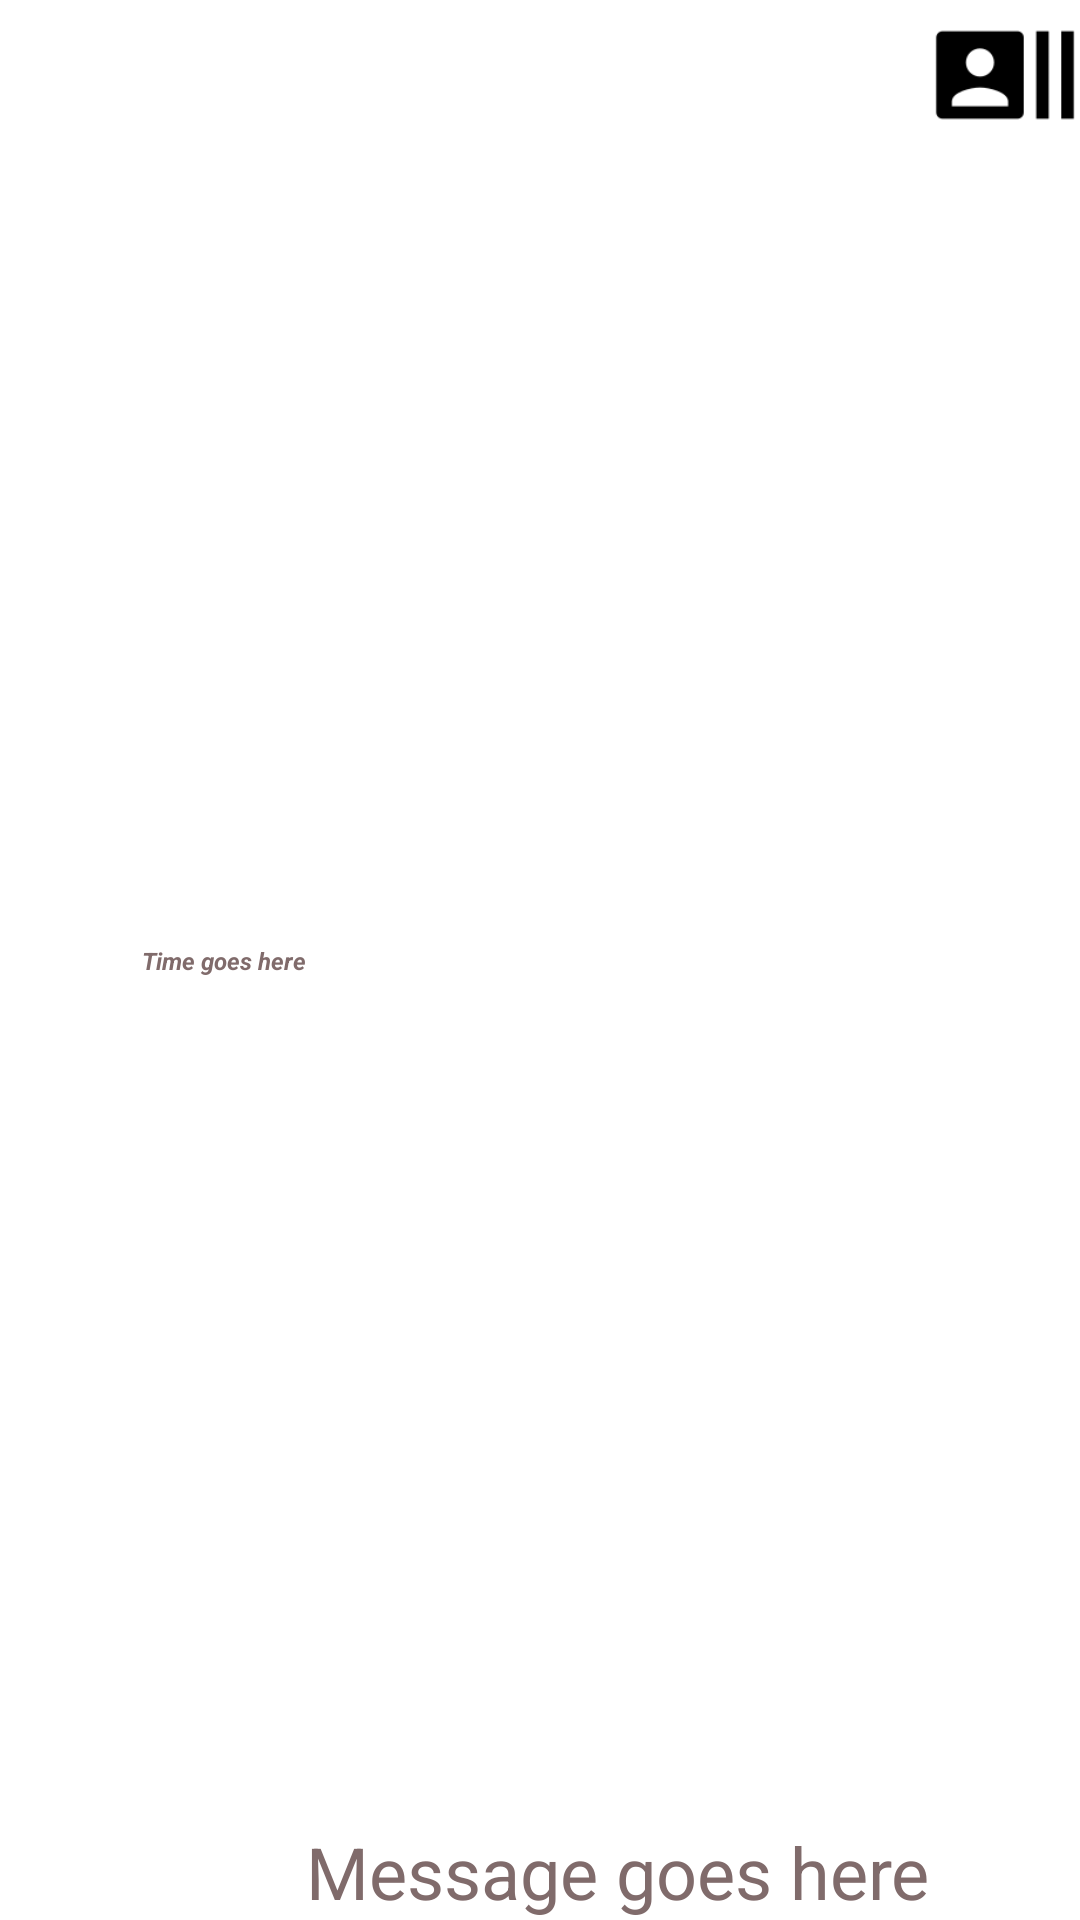

Where to tap for icons on this 1080×1920 app screen, as (x=x, y=y):
actors recent: (x=1005, y=75)
